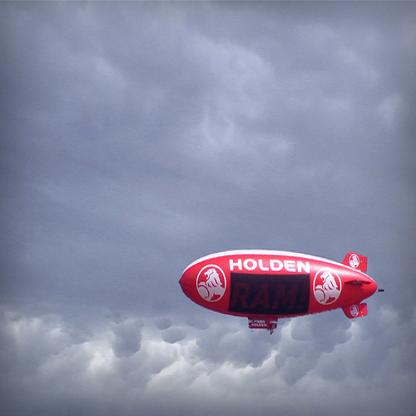Airship: (177, 249, 387, 332)
